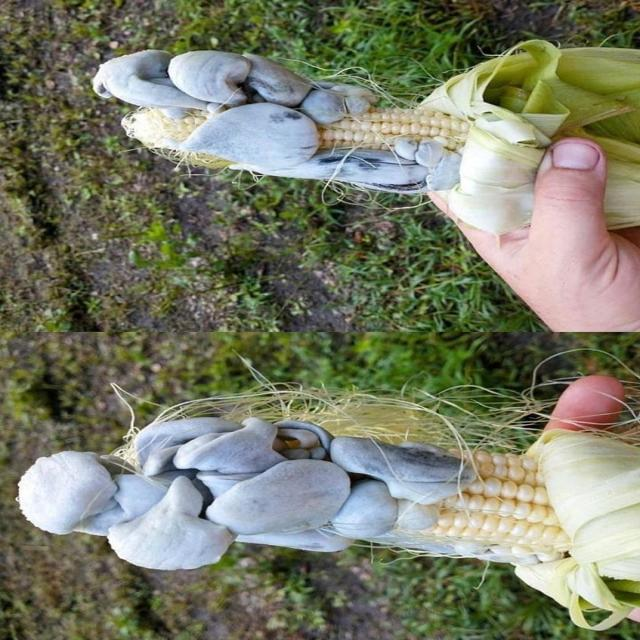Leaf_Scald: (14, 367, 546, 624), (33, 2, 506, 253)
